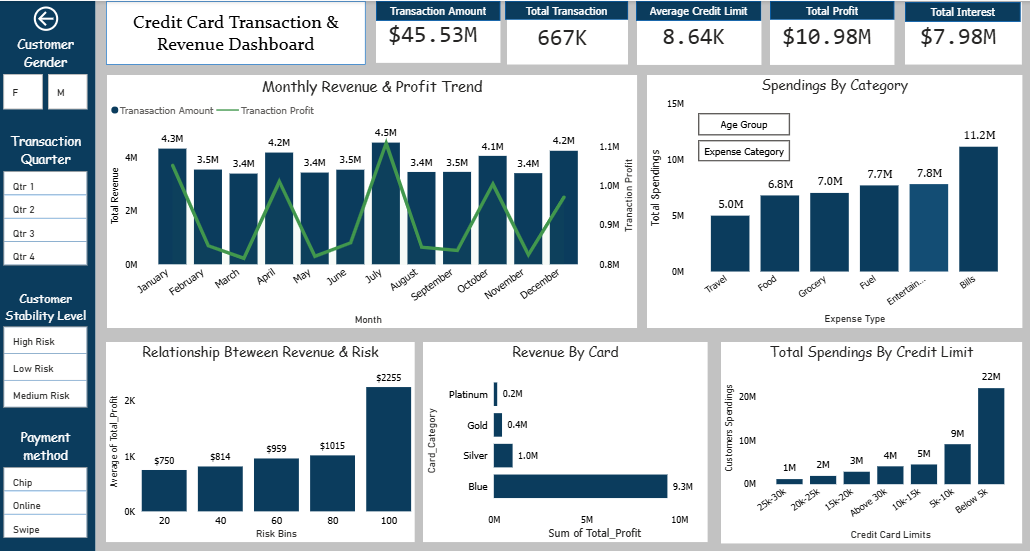

Layout of this report page (visuals, bound fields, positions):
{"tool":"powerbi","page":{"name":"Transaction Dashboard","canvas":[1500,800],"ordinal":1},"visuals":[{"type":"shape","box":[0,0,138.7,800],"z":0},{"type":"cardVisual","title":"Total Customers","fields":{"Data":["Sum(CreditCard.Total_Revenue)"]},"box":[136.8,0,213.1,93.6],"z":1000},{"type":"cardVisual","title":"Total Customers","fields":{"Data":["Sum(CreditCard.Total_Trans_Amt)"]},"box":[382.4,0,244.8,92.8],"z":2000},{"type":"cardVisual","title":"Total Customers","fields":{"Data":["Sum(CreditCard.Total_Trans_Vol)"]},"box":[665.6,1.6,241.6,92.8],"z":3000},{"type":"cardVisual","title":"Total Customers","fields":{"Data":["Avg(CreditCard.CAC_Ratio)"]},"box":[942.4,1.6,230.4,92.8],"z":4000},{"type":"cardVisual","title":"Total Customers","fields":{"Data":["50 States.AVG_Credit_limit"]},"box":[1200,1.6,230.4,92.8],"z":5000},{"type":"shape","box":[382.4,1.6,144,28.8],"z":6000},{"type":"shape","box":[665.6,1.6,142.4,30.4],"z":7000},{"type":"shape","box":[942.4,1.6,144,30.4],"z":8000},{"type":"shape","box":[1200,1.6,145.6,30.4],"z":9000},{"type":"lineStackedColumnComboChart","title":"Revenue By Card","fields":{"Category":["CreditCard.Card_Category"],"Y":["Sum(CreditCard.Total_Revenue)"]},"box":[629,430.6,416.1,369.4],"z":10000},{"type":"lineClusteredColumnComboChart","title":"Spending Behaviour","fields":{"Category":["CreditCard.Exp Type"],"Y":["Sum(CreditCard.Total_Trans_Amt)"]},"box":[1045.2,430.6,454.8,369.4],"z":11000},{"type":"advancedSlicerVisual","title":"Gender","fields":{"Values":["customer.Gender"]},"box":[0,111.3,138.7,98.4],"z":12000},{"type":"advancedSlicerVisual","title":"Gender","fields":{"Values":["Financial_Stability.Stability_Category"]},"box":[0,224.2,138.7,166.1],"z":13000},{"type":"slicer","title":"Quarter","fields":{"Values":["CreditCard.Week_Start_Date.Variation.Date Hierarchy.Quarter"]},"box":[6.5,741.9,125.8,58.1],"z":14000},{"type":"lineClusteredColumnComboChart","title":"Credit Limit vs Spendings","fields":{"Category":["CreditCard.Credit_Limit_Bins"],"Y":["Avg(CreditCard.Total_Trans_Amt)"]},"box":[140,448.9,488.6,351.2],"z":16000},{"type":"actionButton","title":"Button2","box":[196.9,492.1,128,51.2],"z":17000},{"type":"actionButton","title":"Button1","box":[350.4,492.1,128,47.2],"z":18000},{"type":"slicer","title":"Use Chip","fields":{"Values":["CreditCard.Use Chip"]},"box":[6.5,664.5,125.8,58.1],"z":19000},{"type":"slicer","title":"Use Chip","fields":{"Values":["50 States.State"]},"box":[6.5,587.1,125.8,58.1],"z":20000},{"type":"image","box":[3.2,390.3,135.5,177.4],"z":21000},{"type":"image","box":[261.3,0,88.7,93.5],"z":22000},{"type":"image","box":[526.4,0,102.4,92.8],"z":23000},{"type":"image","box":[808,0,99.2,92.8],"z":24000},{"type":"image","box":[1086.4,0,86.4,92.8],"z":25000},{"type":"image","box":[1345.6,1.6,84.8,92.8],"z":26000},{"type":"lineChart","title":"Revenue Trend","fields":{"Category":["CreditCard.Week_Start_Date.Variation.Date Hierarchy.Month","CreditCard.Week_Start_Date.Variation.Date Hierarchy.Day"],"Y2":["Sum(CreditCard.Total_Revenue)"],"Y":["Sum(CreditCard.Total_Trans_Amt)"]},"box":[139.8,112.2,1360.2,318.9],"z":27000},{"type":"shape","box":[139.2,0,144,28.8],"z":28000},{"type":"textbox","box":[992,129.6,131.2,80],"z":29000}]}

Visuals, with their boxes in screenshot pixels (x1, y1, x2, y2), scaled from the page's 1500x800 canvas onto the 1030x551 screenshot:
shape: x1=0 y1=0 x2=95 y2=550
"Total Customers" cardVisual: x1=94 y1=0 x2=240 y2=64
"Total Customers" cardVisual: x1=263 y1=0 x2=431 y2=64
"Total Customers" cardVisual: x1=457 y1=1 x2=623 y2=65
"Total Customers" cardVisual: x1=647 y1=1 x2=805 y2=65
"Total Customers" cardVisual: x1=824 y1=1 x2=982 y2=65
shape: x1=263 y1=1 x2=361 y2=21
shape: x1=457 y1=1 x2=555 y2=22
shape: x1=647 y1=1 x2=746 y2=22
shape: x1=824 y1=1 x2=924 y2=22
"Revenue By Card" lineStackedColumnComboChart: x1=432 y1=297 x2=718 y2=550
"Spending Behaviour" lineClusteredColumnComboChart: x1=718 y1=297 x2=1029 y2=550
"Gender" advancedSlicerVisual: x1=0 y1=77 x2=95 y2=144
"Gender" advancedSlicerVisual: x1=0 y1=154 x2=95 y2=269
"Quarter" slicer: x1=4 y1=511 x2=91 y2=550
"Credit Limit vs Spendings" lineClusteredColumnComboChart: x1=96 y1=309 x2=432 y2=550
"Button2" actionButton: x1=135 y1=339 x2=223 y2=374
"Button1" actionButton: x1=241 y1=339 x2=329 y2=371
"Use Chip" slicer: x1=4 y1=458 x2=91 y2=498
"Use Chip" slicer: x1=4 y1=404 x2=91 y2=444
image: x1=2 y1=269 x2=95 y2=391
image: x1=179 y1=0 x2=240 y2=64
image: x1=361 y1=0 x2=432 y2=64
image: x1=555 y1=0 x2=623 y2=64
image: x1=746 y1=0 x2=805 y2=64
image: x1=924 y1=1 x2=982 y2=65
"Revenue Trend" lineChart: x1=96 y1=77 x2=1029 y2=297
shape: x1=96 y1=0 x2=194 y2=20
textbox: x1=681 y1=89 x2=771 y2=144
